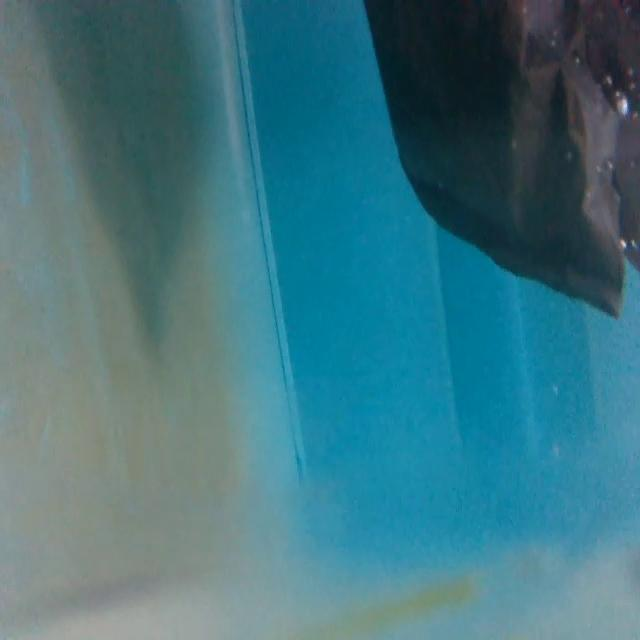plastic bags: (358, 1, 640, 323)
